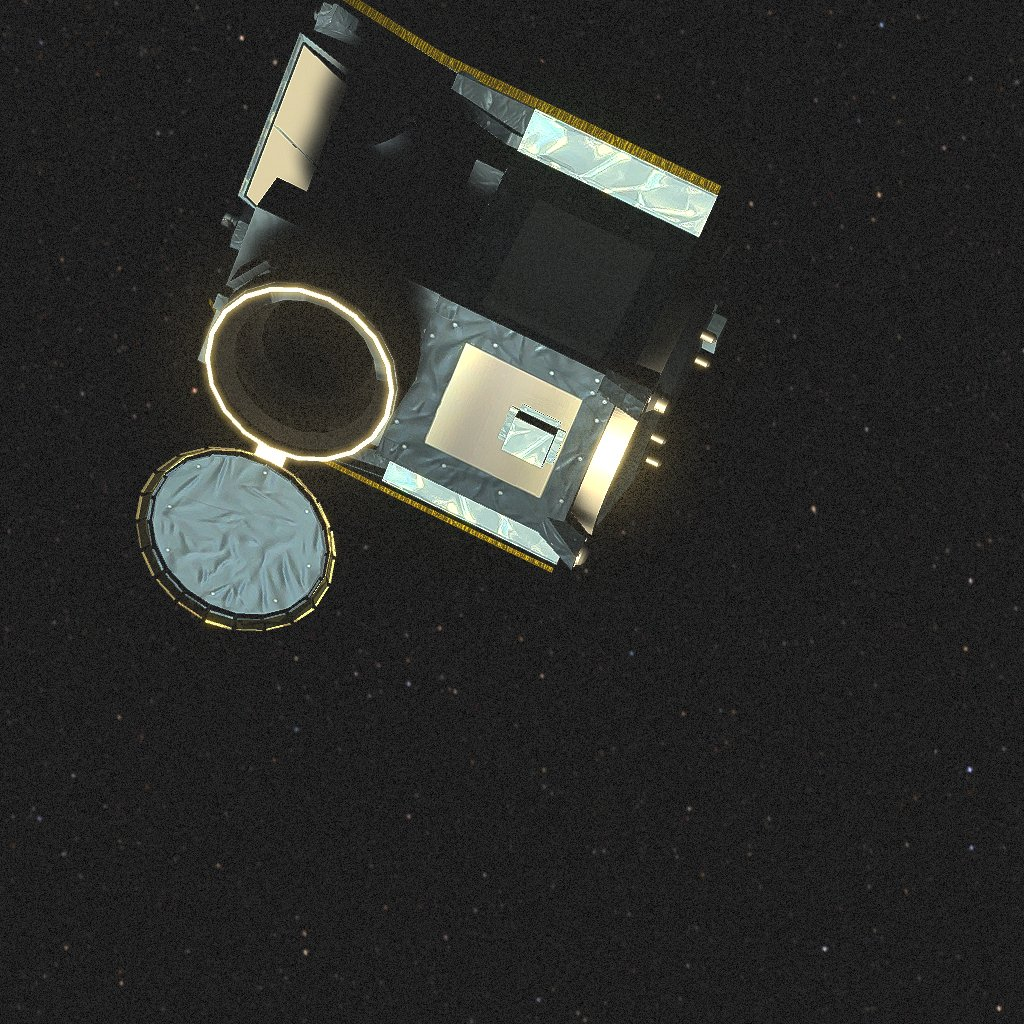cheops: (136, 0, 749, 631)
